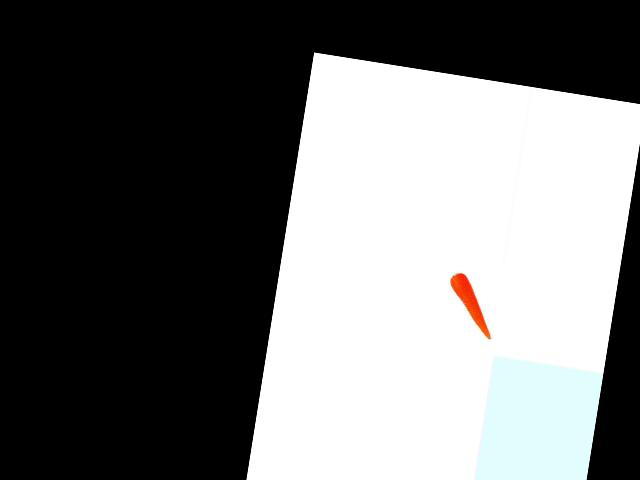carrot: (441, 270, 503, 343)
